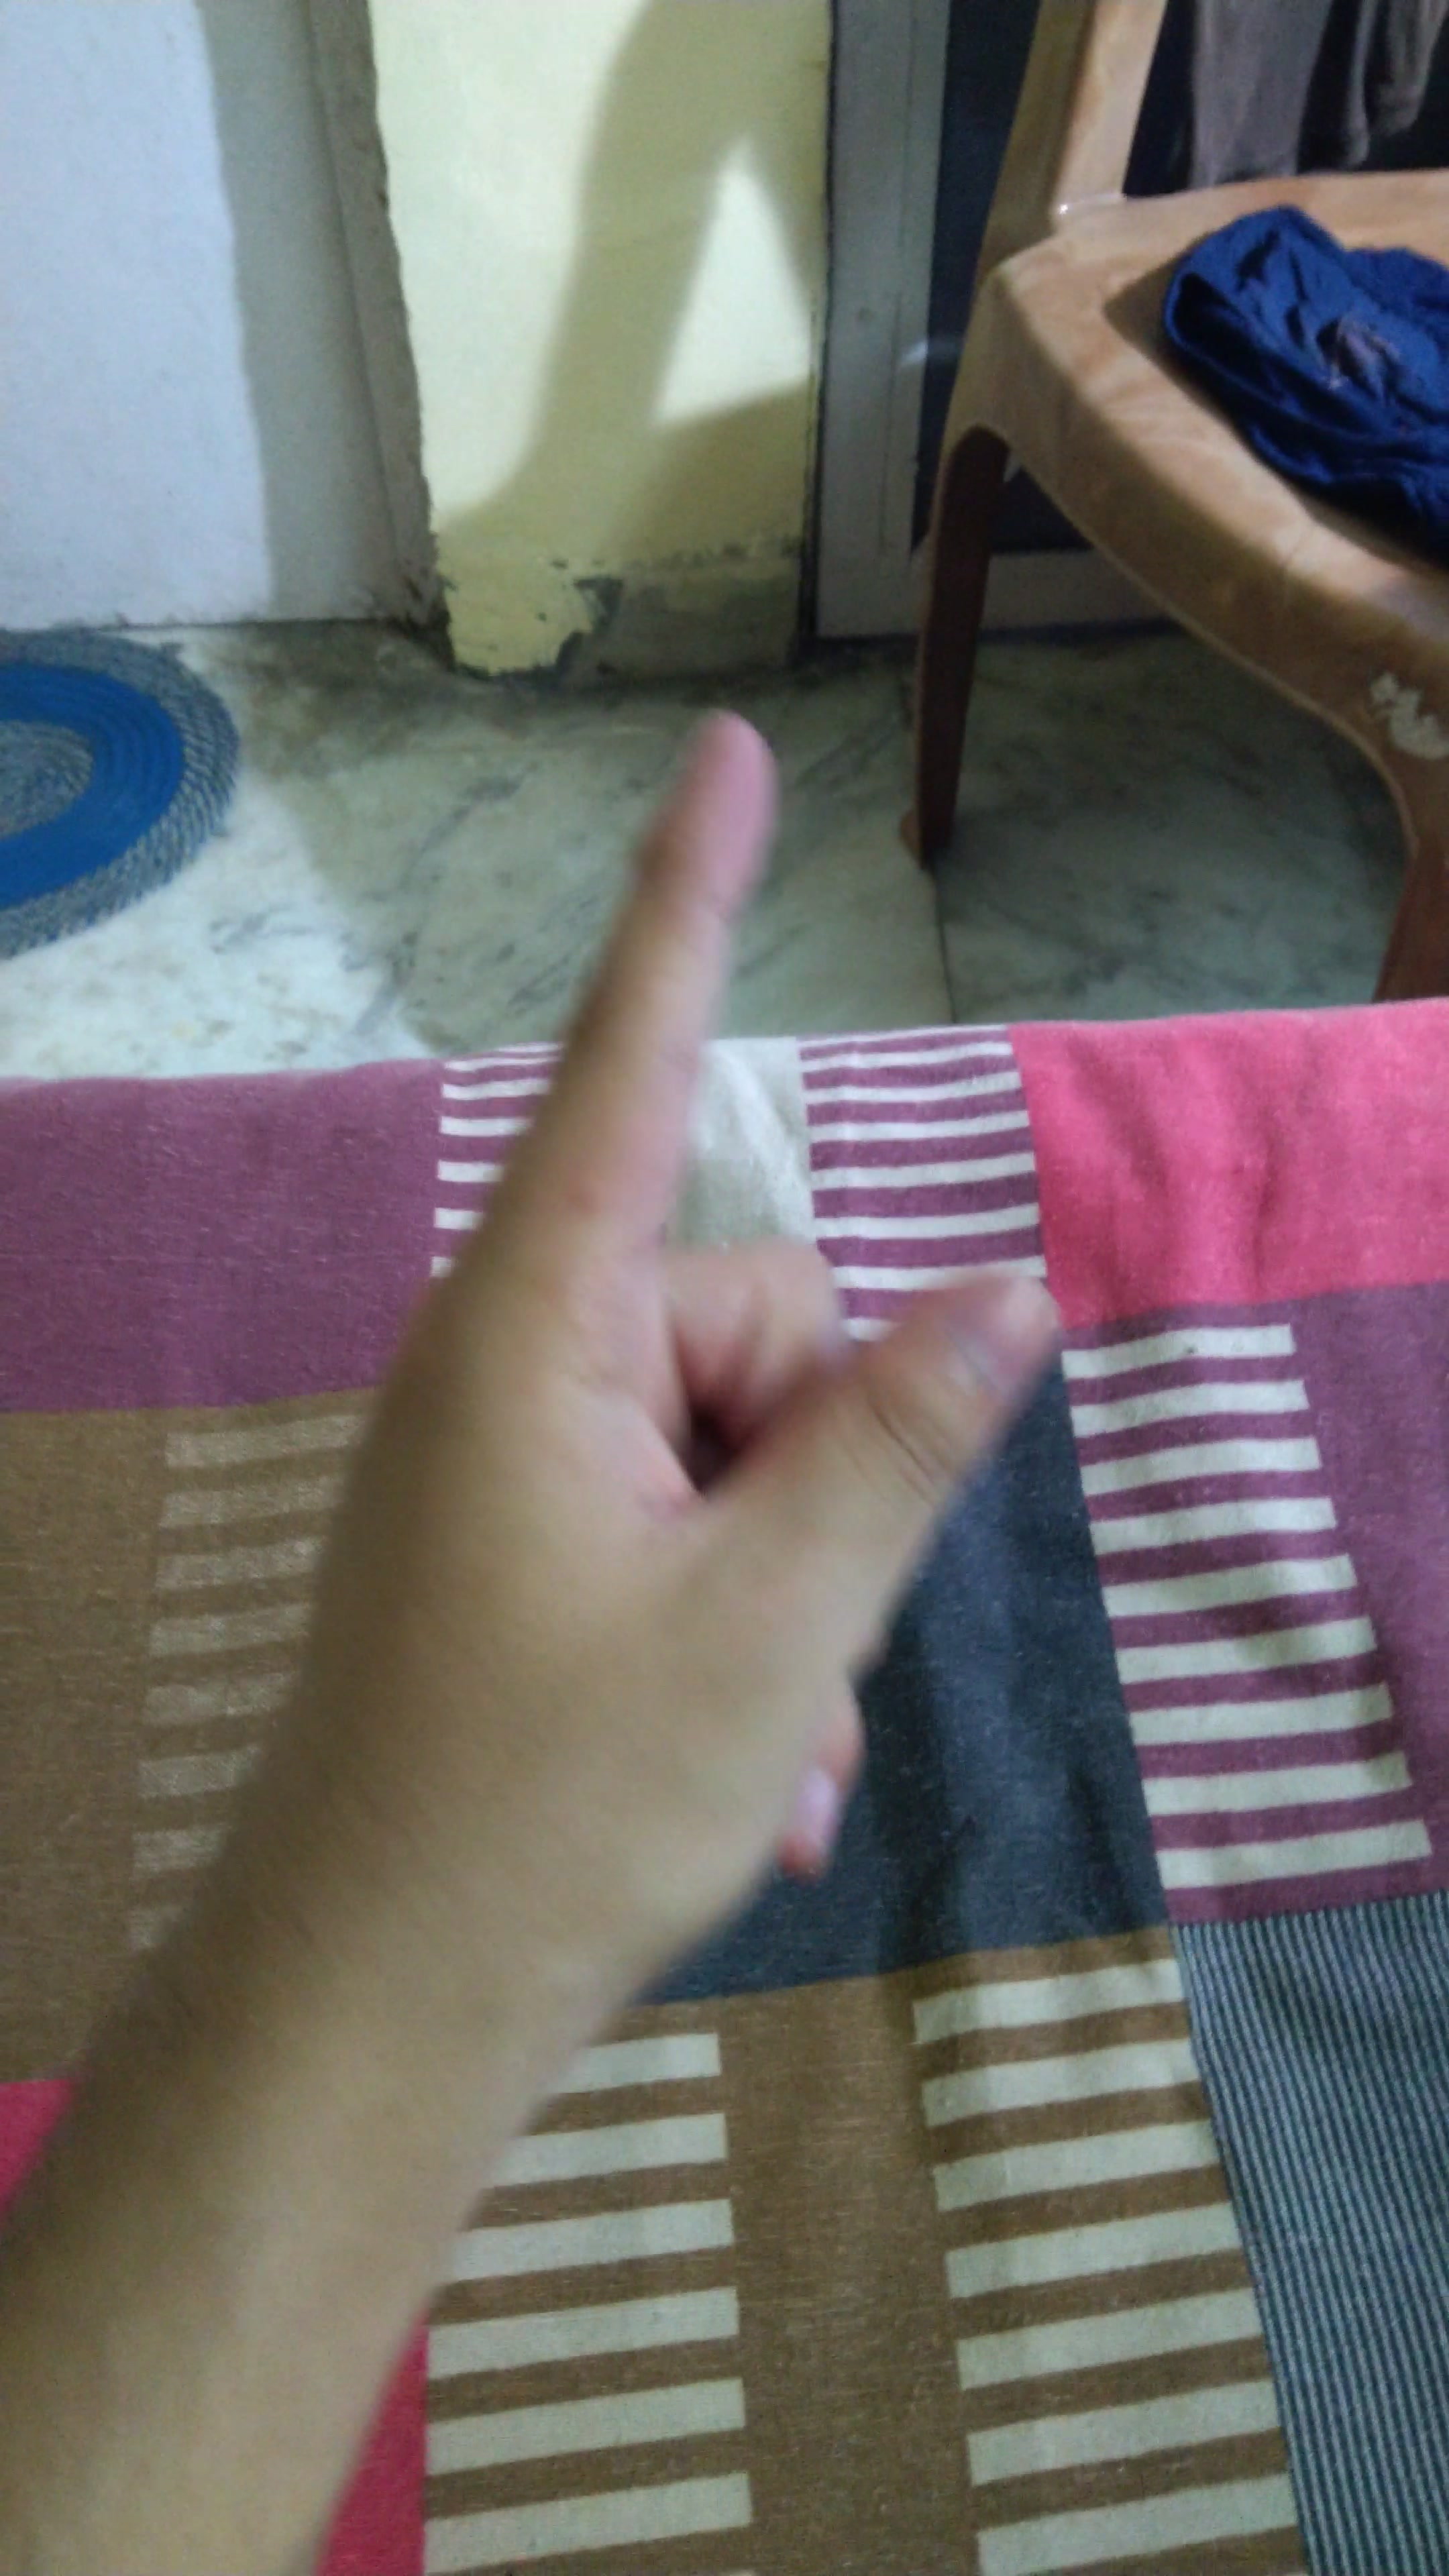hand: (264, 695, 1079, 2082)
